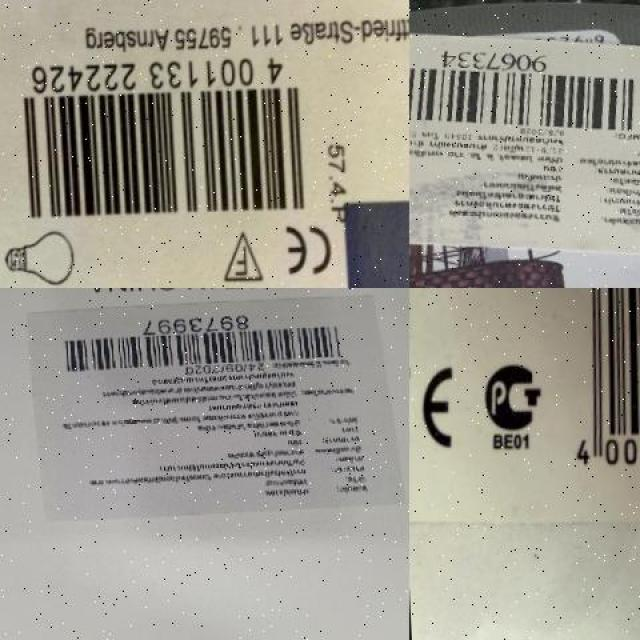Barcode: (4, 51, 308, 225), (409, 46, 640, 146), (46, 311, 349, 377), (545, 288, 640, 489)
